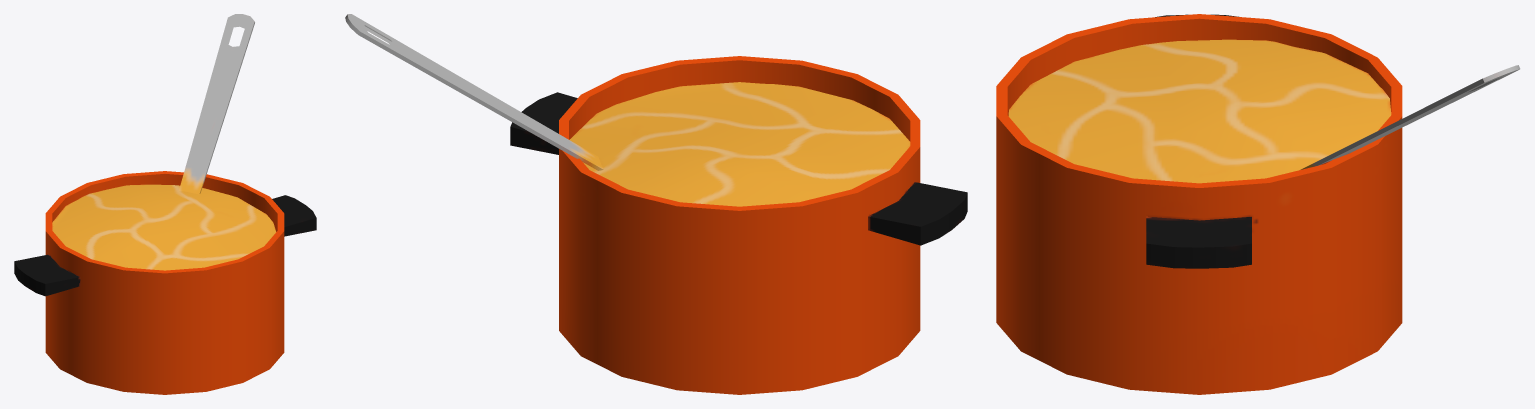
Rendered from Olla.FBX.
3 views of the same model, side by side, from view 1: azimuth 30°, elevation 25°; view 2: azimuth 150°, elevation 25°; view 3: azimuth 270°, elevation 25° (orthographic). The views are drawn at different scales.
Visible parts, largest first — view 1: Plane064; view 2: Plane064; view 3: Plane064.
Part boxes in pixels (x1=…): Plane064: x1=14, y1=14, x2=316, y2=394; Plane064: x1=345, y1=14, x2=967, y2=394; Plane064: x1=996, y1=14, x2=1520, y2=394.
Size of the model in its own units: 2.93 by 1.99 by 2.49.
1 material, 1 textured.
